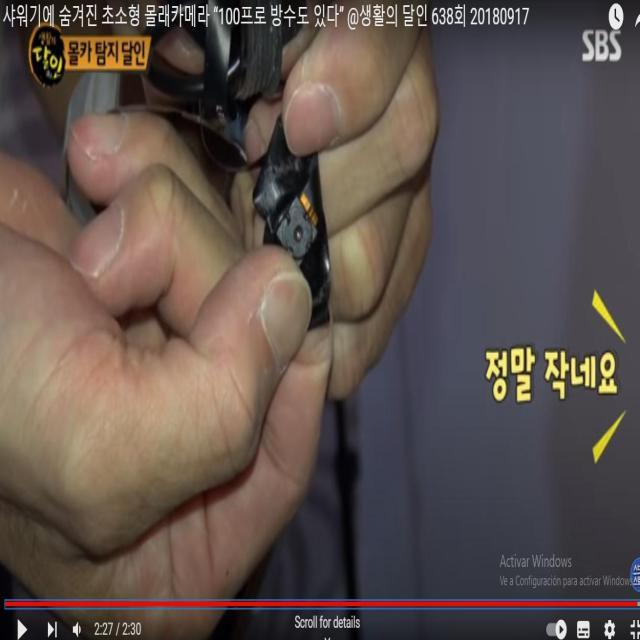hidden camera: (282, 201, 315, 263)
